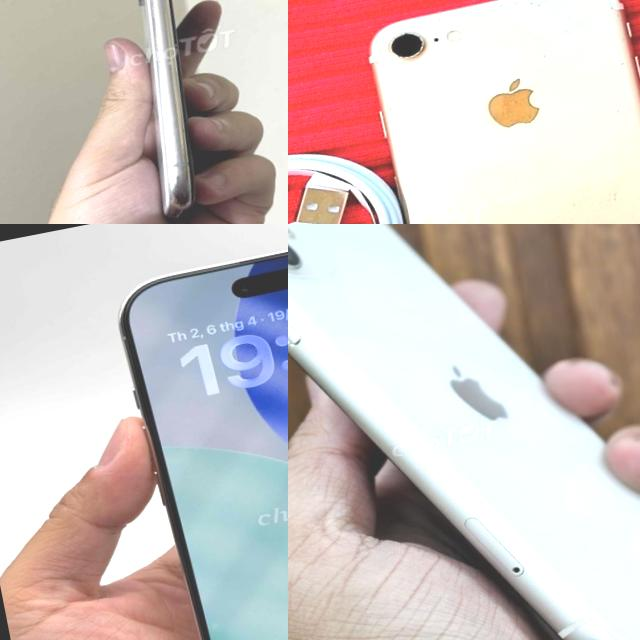scratch: (407, 0, 613, 44), (372, 70, 408, 165), (578, 178, 640, 224), (380, 29, 432, 64), (164, 166, 197, 202), (493, 211, 563, 224)
